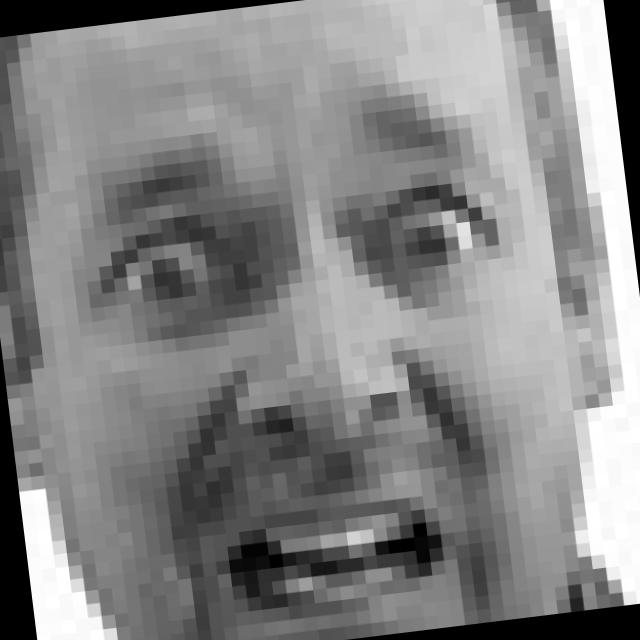fear: (54, 77, 564, 640)
